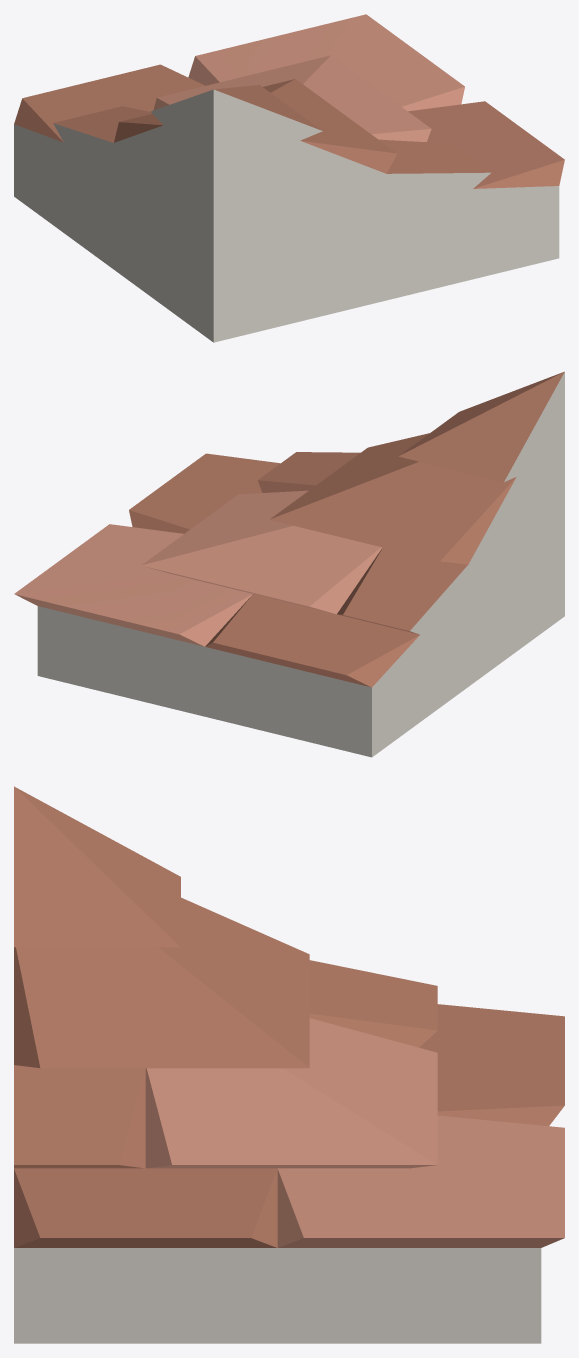
File: Roof_Concave_Corner_Outer.glb
3 renders of one model, top to bottom at view 1: azimuth 30°, elevation 25°; view 2: azimuth 150°, elevation 25°; view 3: azimuth 270°, elevation 25°, orthographic. The views are drawn at different scales.
Visible parts, largest first — view 1: object1; view 2: object1; view 3: object1.
Boxes of the visible parts, box(x1,y1,x2,y2) form: object1: box(14, 14, 564, 342); object1: box(14, 371, 564, 757); object1: box(14, 786, 564, 1343).
Size of the model in its own units: 1.05 by 0.7 by 1.05.
